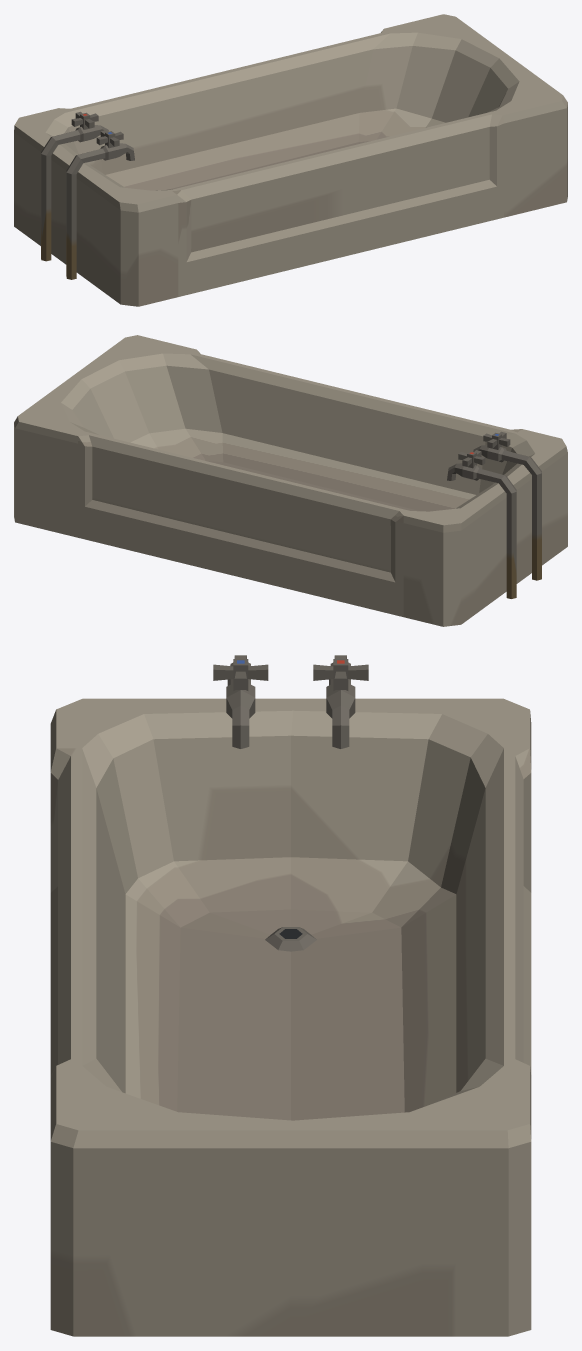
The model's file is SM_Prop_Bath_01.fbx.
3 renders of one model, top to bottom at view 1: azimuth 30°, elevation 25°; view 2: azimuth 150°, elevation 25°; view 3: azimuth 270°, elevation 25°, orthographic. The views are drawn at different scales.
Parts seen in each view (by area): view 1: SM_Prop_Bath_01; view 2: SM_Prop_Bath_01; view 3: SM_Prop_Bath_01.
Boxes of the visible parts, bbox=[...] form: SM_Prop_Bath_01: bbox=[14, 14, 567, 306]; SM_Prop_Bath_01: bbox=[14, 335, 567, 626]; SM_Prop_Bath_01: bbox=[50, 655, 531, 1336].
Size of the model in its own units: 241 by 67.15 by 109.
